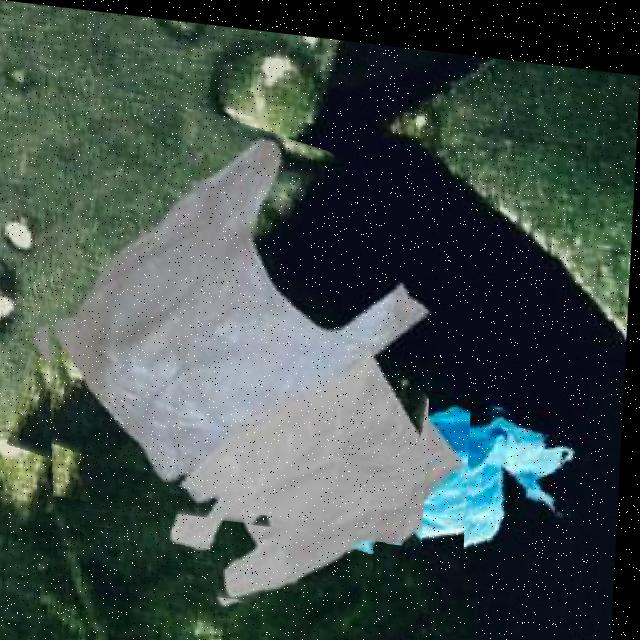litter: (25, 90, 443, 538), (155, 305, 477, 623), (355, 373, 590, 561)
